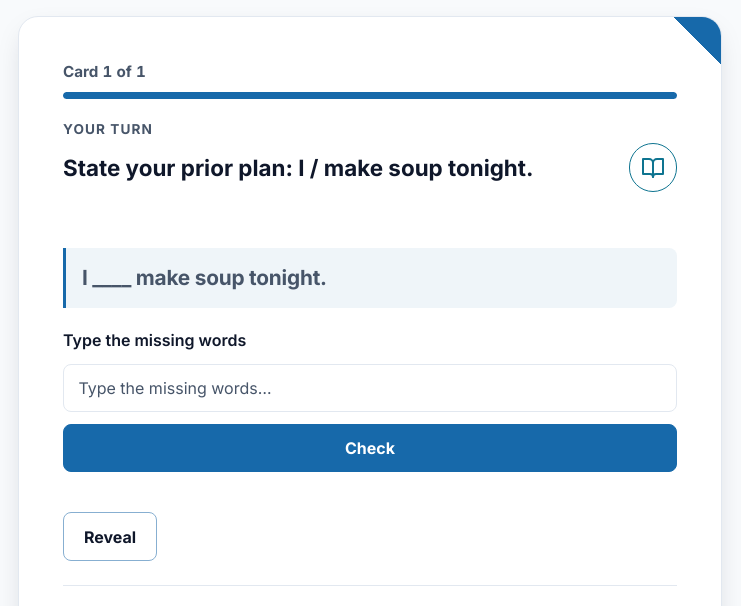
Test: VerbTensesPracticeClient › soporta ejercicios del futuro sin cambiar el formato
This screenshot has width=741, height=606.
Expected: the text "Be going to" is not shown
Expected: the text "I am going to make soup tonight." is not shown
Type "am going to" into the field labelled "Type the missing words".
click(370, 388); type("am going to")  # box left=63, top=364, right=677, bottom=412
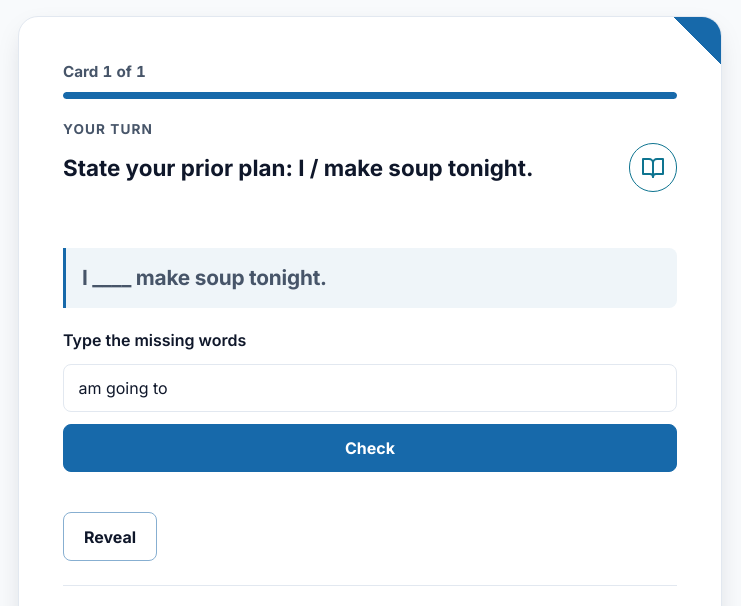
Click the button "Check".
click(370, 448)  # box left=63, top=424, right=677, bottom=472
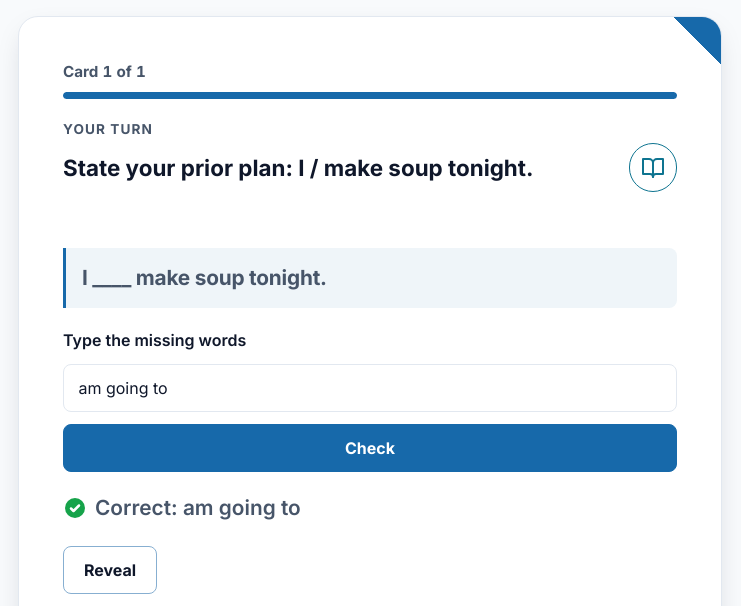
Expected: the text "Correct: am going to" is shown, left=95, top=492, right=301, bottom=524
Click the button "Reveal".
click(110, 570)  # box left=63, top=546, right=157, bottom=594
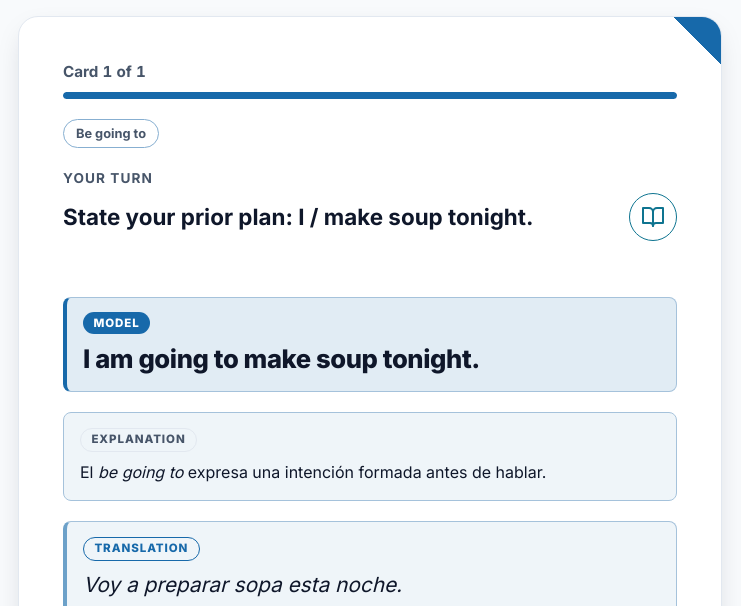
Expected: the text "I am going to make soup tonight." is shown, left=83, top=343, right=480, bottom=375
Expected: the text "Be going to" is shown, left=63, top=119, right=159, bottom=148
